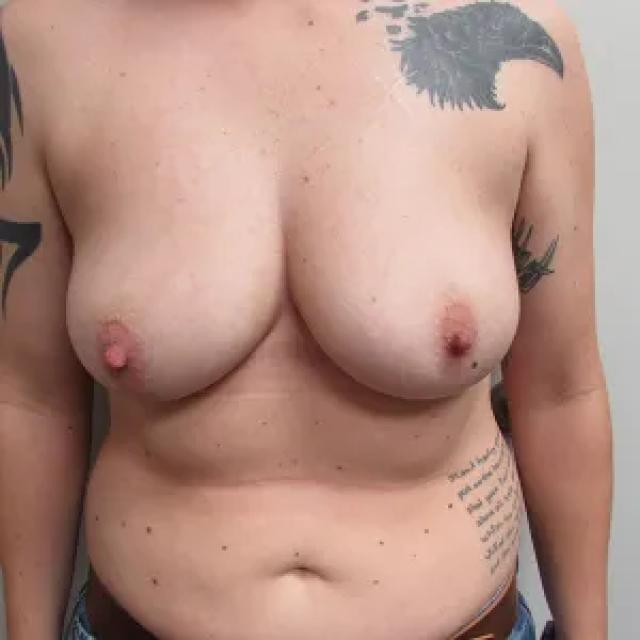Seno ileso: (288, 165, 528, 423), (57, 165, 286, 423)
